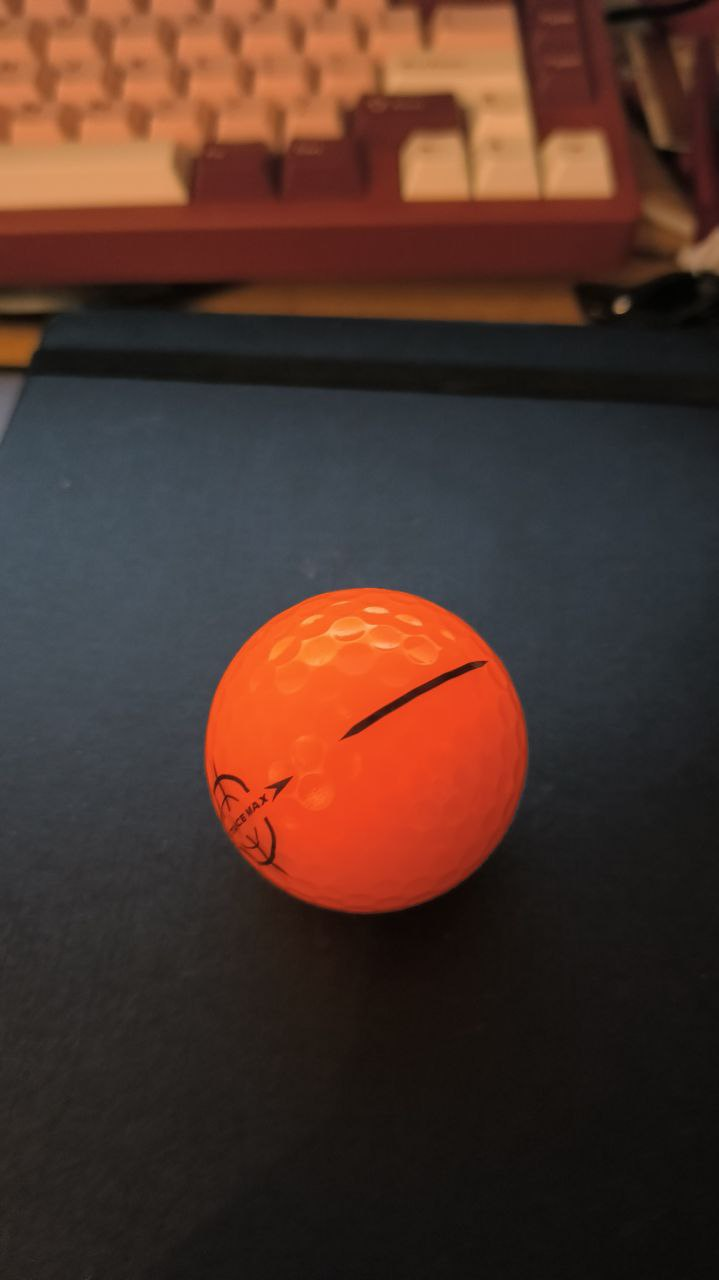orange_ball: (204, 586, 529, 915)
